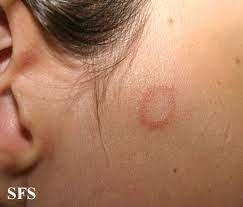Ringworm: (136, 80, 179, 132)
